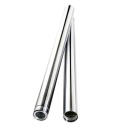Fork: (29, 1, 84, 128)
